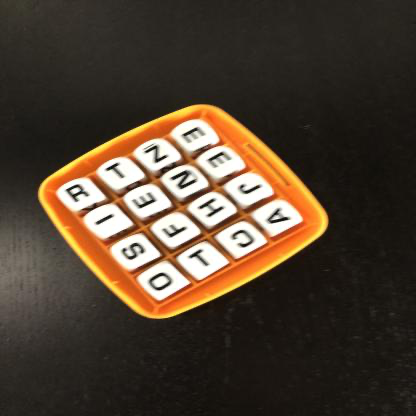a: (262, 206, 299, 232)
c: (223, 227, 263, 254)
e: (128, 187, 168, 215), (176, 123, 215, 148), (203, 150, 237, 173)
f: (159, 217, 195, 245)
h: (193, 196, 234, 225)
i: (94, 211, 124, 235)
j: (234, 176, 269, 205)
n: (168, 168, 204, 193)
o: (143, 269, 184, 296)
r: (64, 181, 98, 209)
s: (115, 237, 157, 267)
t: (182, 245, 224, 276), (101, 159, 133, 184)
z: (137, 142, 176, 169)
